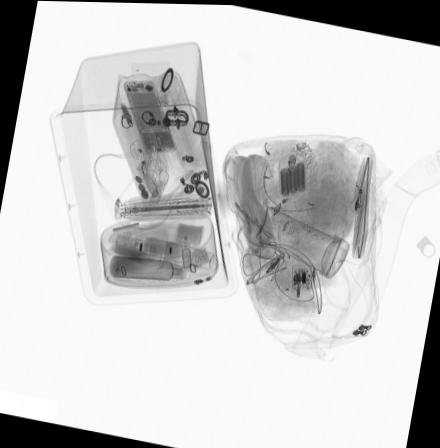Powerbank: (119, 79, 176, 153), (277, 145, 306, 195)
